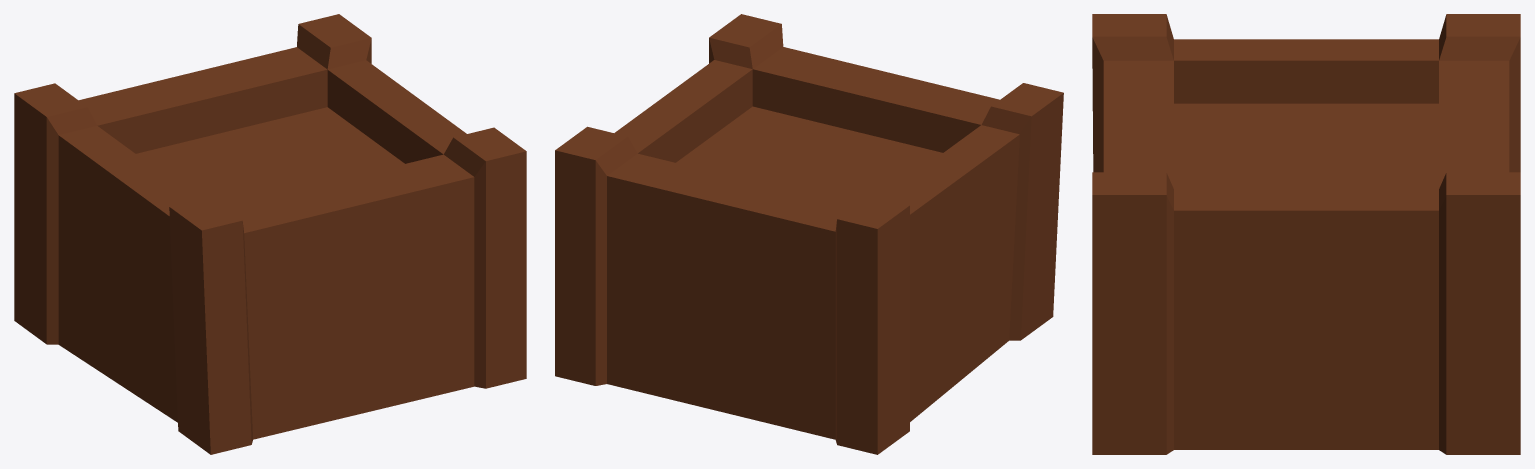
The model's file is SM_crate_small.fbx.
3 renders of one model, left to right at view 1: azimuth 30°, elevation 25°; view 2: azimuth 150°, elevation 25°; view 3: azimuth 270°, elevation 25°, orthographic. The views are drawn at different scales.
Visible parts, largest first — view 1: chest_small; view 2: chest_small; view 3: chest_small.
Part boxes in pixels (left/top/right/bottom): chest_small: left=14, top=14, right=526, bottom=454; chest_small: left=555, top=14, right=1063, bottom=454; chest_small: left=1092, top=14, right=1520, bottom=454.
Size of the model in its own units: 37.06 by 24.81 by 37.06.
